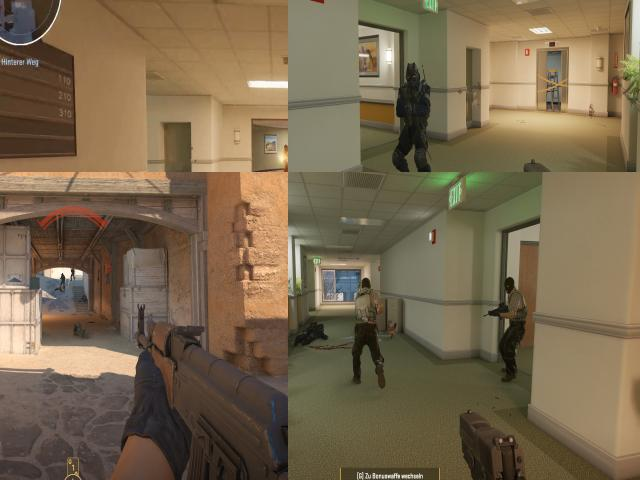CT: (395, 63, 433, 172), (60, 273, 66, 290), (71, 269, 75, 280)
CT-Head: (405, 62, 421, 87), (62, 273, 64, 276)
Dead: (74, 322, 85, 336), (55, 286, 64, 292), (82, 296, 88, 302)
T: (502, 278, 524, 376), (356, 278, 376, 384), (295, 318, 331, 350), (279, 142, 288, 172)
T-Head: (503, 277, 515, 292), (360, 278, 372, 289), (281, 142, 288, 156)
